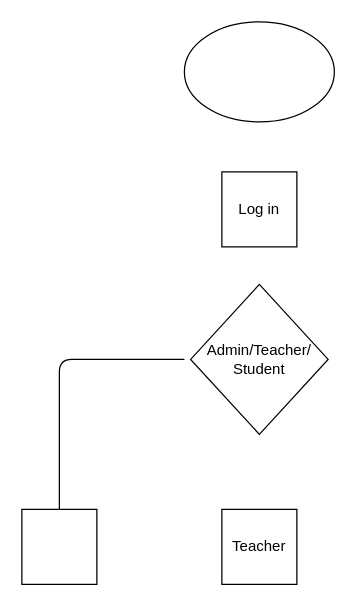
Image size: 356x606. Some labels were removed from this diagram. The shapes that lost their labels are listed below. From the top down, each one's box as (x1, y1, x2, y2) in pixels, then its label:
(183, 21, 334, 122): Start
(21, 508, 97, 584): Admin
